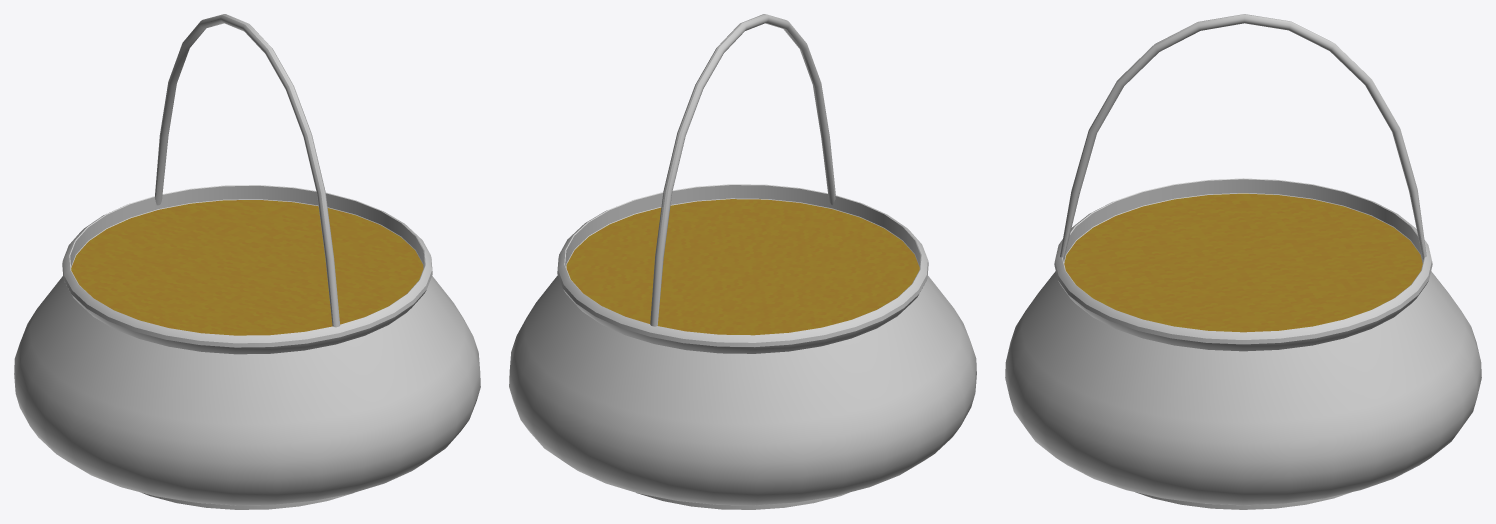
The model's file is Pot.fbx.
3 views of the same model, side by side, from view 1: azimuth 30°, elevation 25°; view 2: azimuth 150°, elevation 25°; view 3: azimuth 270°, elevation 25° (orthographic).
Parts seen in each view (by area): view 1: Pot; view 2: Pot; view 3: Pot.
Part boxes in pixels (box(x1,y1,x2,y2)): Pot: box(14, 14, 480, 509); Pot: box(509, 14, 976, 509); Pot: box(1005, 14, 1481, 509).
Size of the model in its own units: 68.4 by 67.52 by 68.4.
